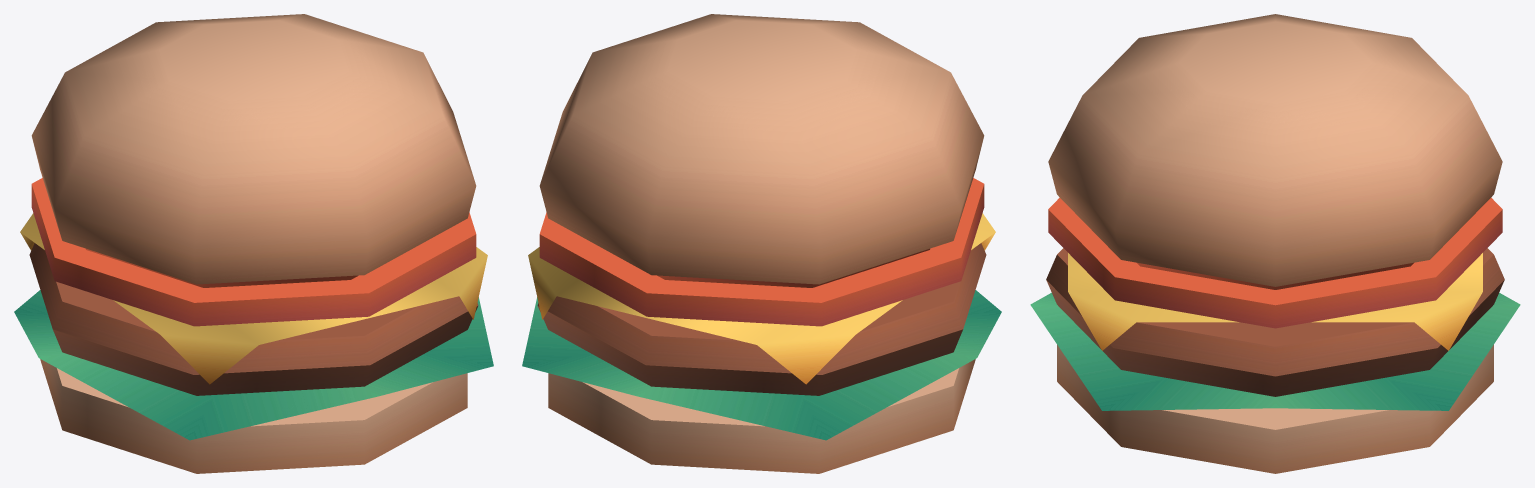
The model's file is burger-classic.glb.
3 renders of one model, left to right at view 1: azimuth 30°, elevation 25°; view 2: azimuth 150°, elevation 25°; view 3: azimuth 270°, elevation 25°, orthographic.
Parts seen in each view (by area): view 1: dish; view 2: dish; view 3: dish.
Part boxes in pixels (x1=…): dish: x1=14, y1=14, x2=493, y2=473; dish: x1=522, y1=14, x2=1001, y2=473; dish: x1=1030, y1=14, x2=1520, y2=473.
Bounding box in the file's own units: 0.1297 × 0.0931 × 0.1297.
1 material, 1 textured.
